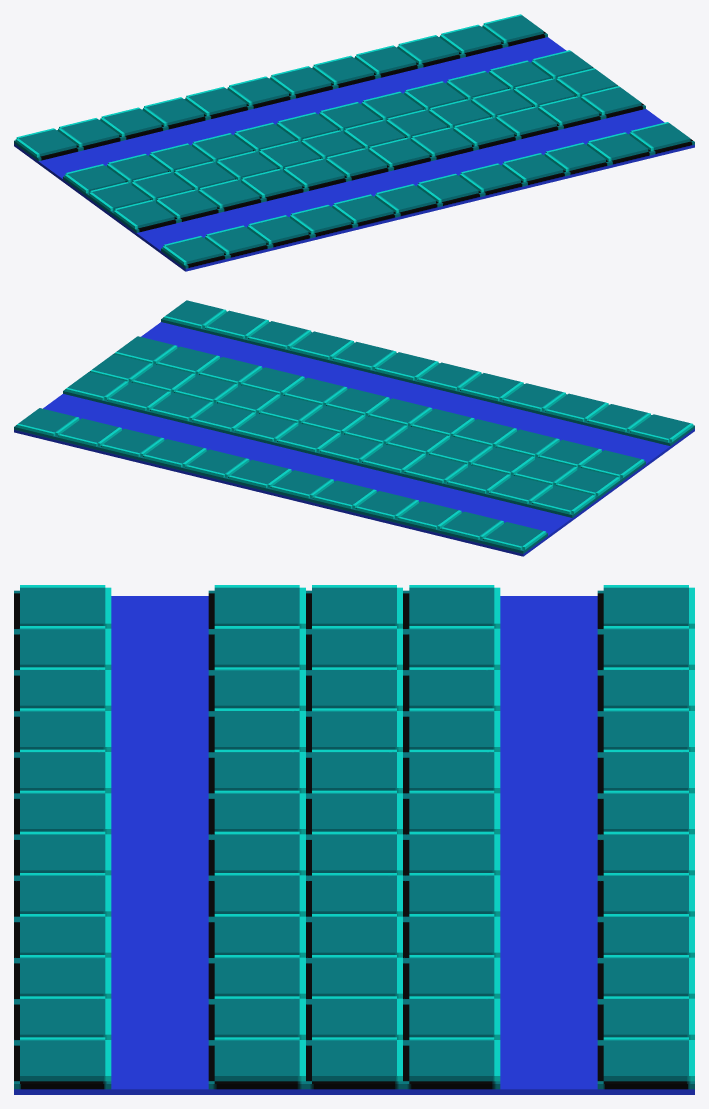
Rendered from FloorWaterRiverDouble.glb.
3 views of the same model, one above another, from view 1: azimuth 30°, elevation 25°; view 2: azimuth 150°, elevation 25°; view 3: azimuth 270°, elevation 25° (orthographic). The views are drawn at different scales.
Parts seen in each view (by area): view 1: FloorWaterRiverDouble; view 2: FloorWaterRiverDouble; view 3: FloorWaterRiverDouble.
Part boxes in pixels (bbox=[...]): FloorWaterRiverDouble: bbox=[14, 14, 694, 271]; FloorWaterRiverDouble: bbox=[14, 300, 694, 556]; FloorWaterRiverDouble: bbox=[14, 585, 694, 1094].
Bounding box in the file's own units: 19.2 × 0.3 × 11.2.
1 material, 1 textured.
